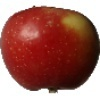apple: (1, 7, 100, 90)
